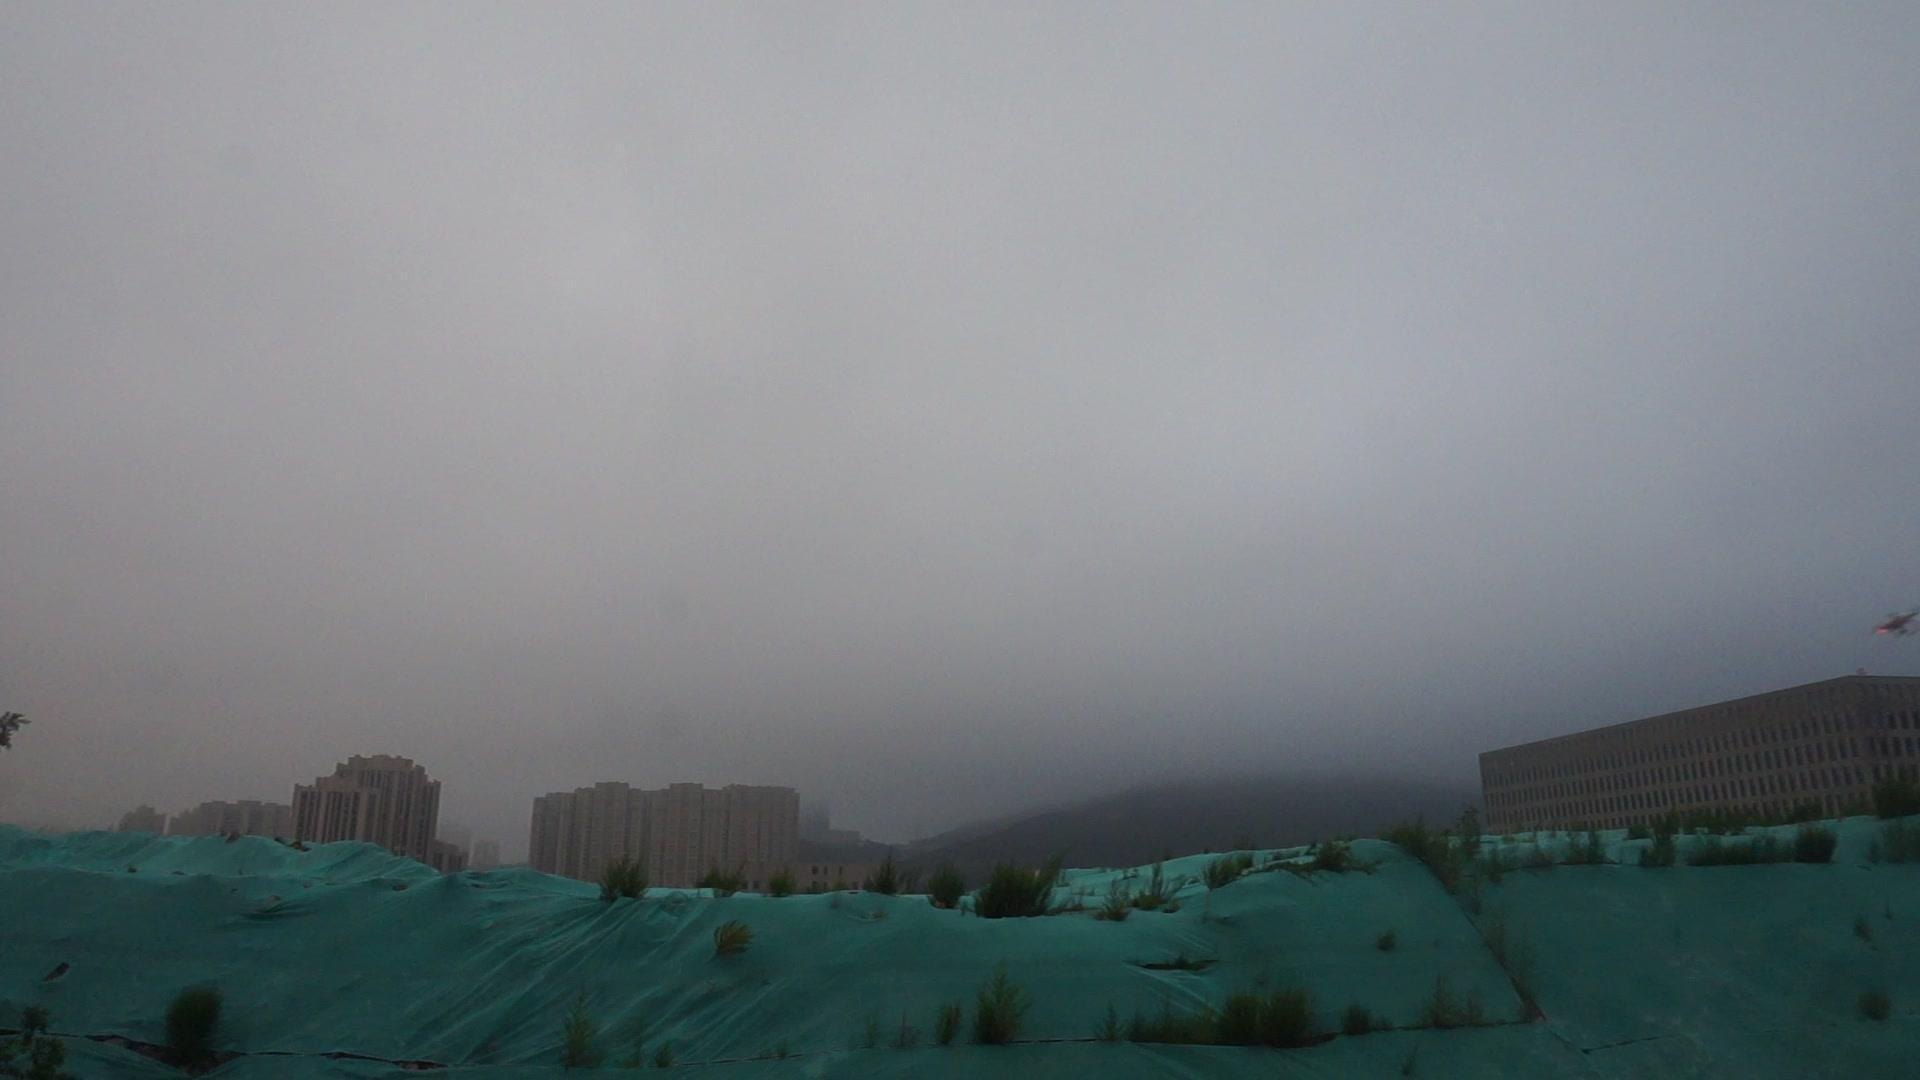UAV: (1876, 611, 1920, 638)
